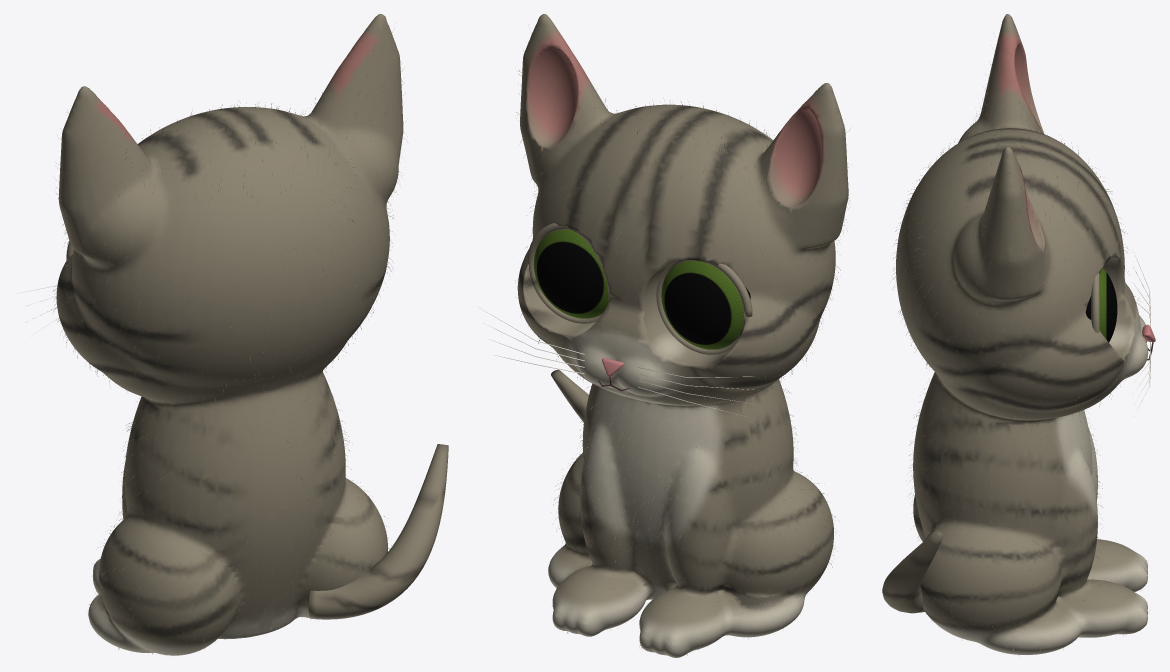
The model's file is gulu_driver.glb.
3 views of the same model, side by side, from view 1: azimuth 30°, elevation 25°; view 2: azimuth 150°, elevation 25°; view 3: azimuth 270°, elevation 25° (orthographic). The views are drawn at different scales.
Visible parts, largest first — view 1: Continuous feline anatomy, Curled tail, Groomed short fur; view 2: Continuous feline anatomy, Curved inset eye.001, Curved inset eye, Soft anatomical eyelid.001, Groomed short fur, Soft anatomical eyelid, Curled tail; view 3: Continuous feline anatomy, Curled tail, Groomed short fur, Curved inset eye, Soft anatomical eyelid.
Boxes of the visible parts, bbox=[...] form: Continuous feline anatomy: bbox=[56, 14, 403, 655]; Curled tail: bbox=[308, 444, 448, 619]; Groomed short fur: bbox=[51, 32, 404, 654]; Continuous feline anatomy: bbox=[517, 14, 848, 657]; Curved inset eye.001: bbox=[661, 260, 750, 349]; Curved inset eye: bbox=[534, 229, 608, 318]; Soft anatomical eyelid.001: bbox=[656, 260, 752, 354]; Groomed short fur: bbox=[515, 33, 849, 655]; Soft anatomical eyelid: bbox=[527, 223, 601, 323]; Curled tail: bbox=[551, 369, 588, 422]; Continuous feline anatomy: bbox=[896, 14, 1148, 654]; Curled tail: bbox=[882, 530, 944, 613]; Groomed short fur: bbox=[892, 40, 1148, 655]; Curved inset eye: bbox=[1085, 268, 1117, 342]; Soft anatomical eyelid: bbox=[1091, 273, 1099, 333].
Size of the model in its own units: 0.978 by 1.54 by 0.7154.
Materials: 6 (2 with a texture image).
